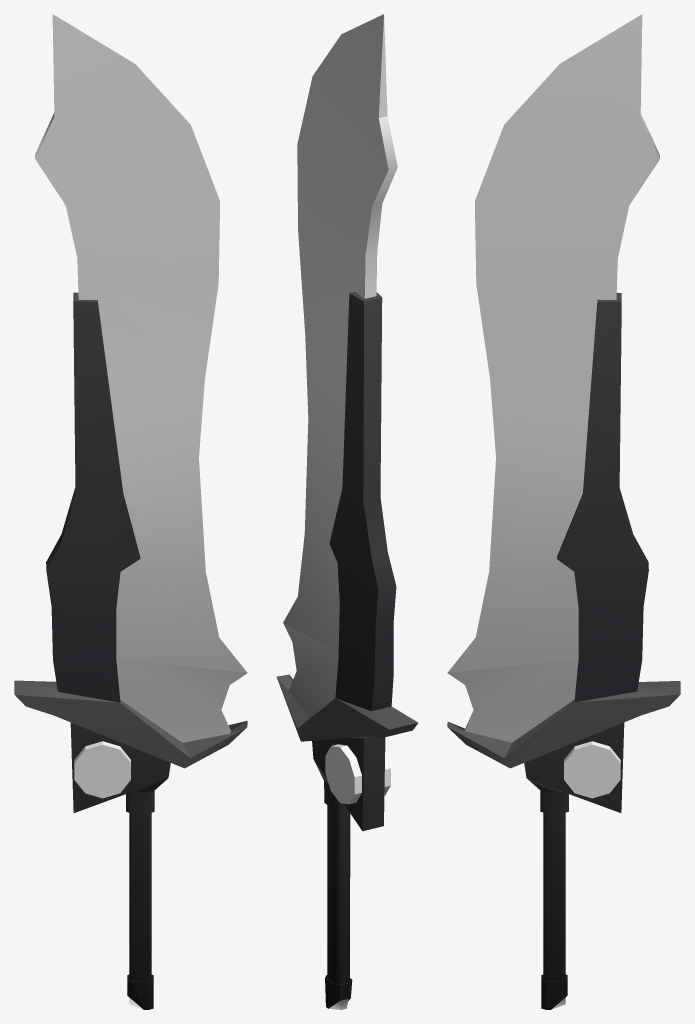
File: Weapon_curved_sword.fbx
The picture shows the model from 3 angles, left to right: view 1: azimuth 90°, elevation 25°; view 2: azimuth 210°, elevation 25°; view 3: azimuth 270°, elevation 25°; orthographic projection. The views are drawn at different scales.
Parts seen in each view (by area): view 1: W_SB_1; view 2: W_SB_1; view 3: W_SB_1.
Boxes of the visible parts, x1=… form: W_SB_1: x1=14, y1=14, x2=247, y2=1009; W_SB_1: x1=276, y1=14, x2=418, y2=1009; W_SB_1: x1=447, y1=14, x2=680, y2=1009.
Size of the model in its own units: 4.06 by 110 by 23.52.
